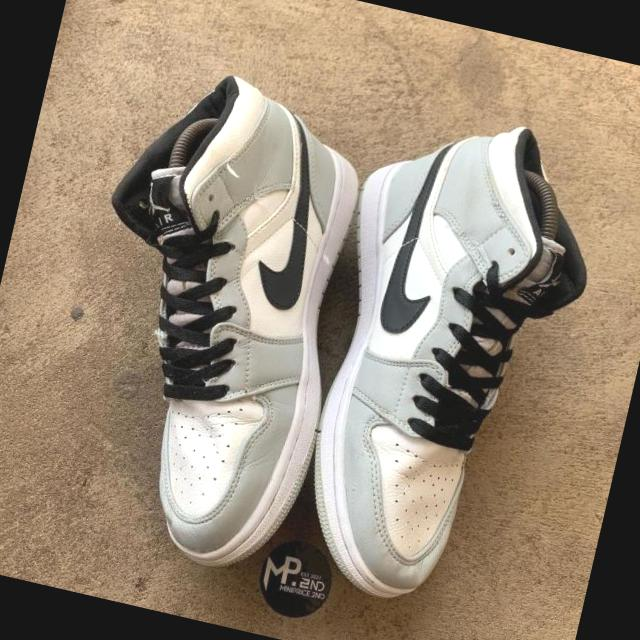nike_fake_jordan: (36, 67, 393, 589), (272, 106, 602, 627)
